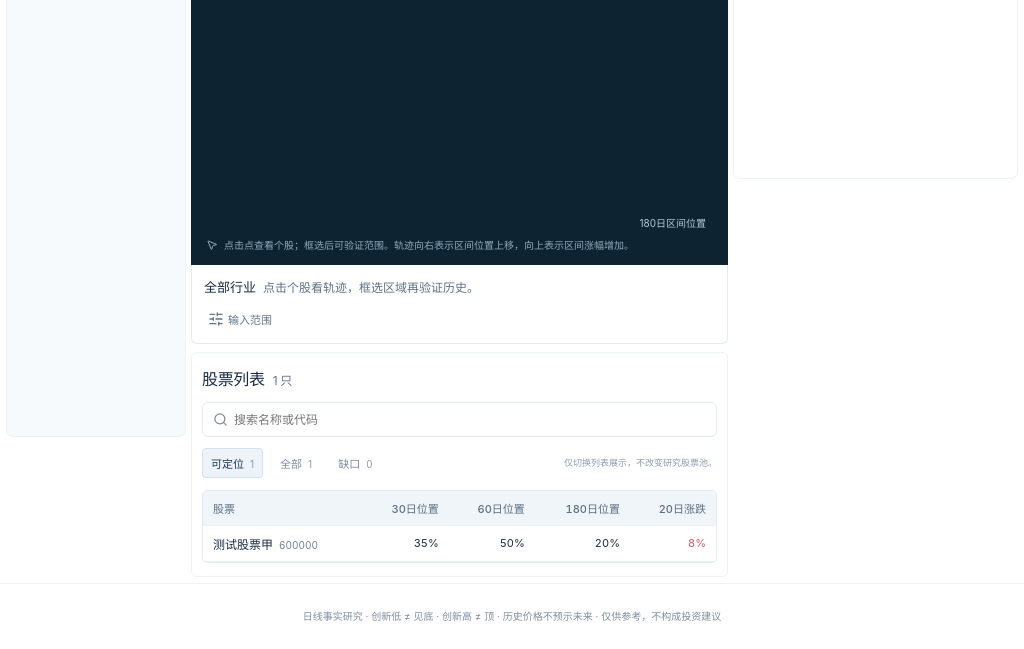
Scenario: trend discovery to reproducible research › keeps the true old date visible and prevents interactions while loading a new dated snapshot
(page scrolled)
Click the button with aria-label "查看 测试股票甲 600000": point(265, 543) [213,535,318,552]
(page scrolled)
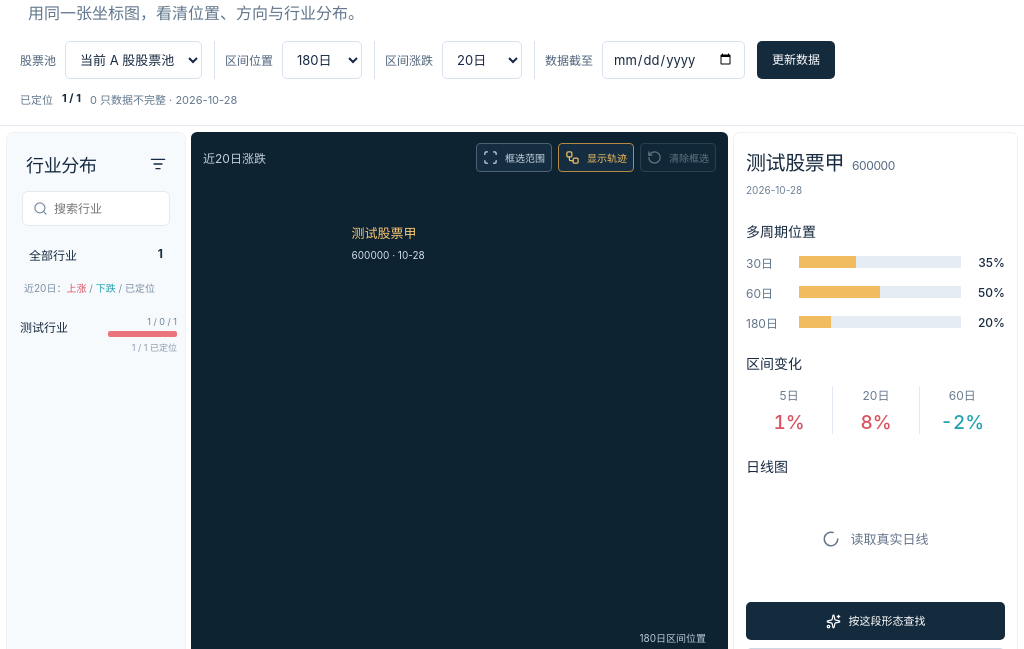
In the date field named "地图截止日期": point(674, 60) [602,41,745,79], type "2026-09-04"
(page scrolled)
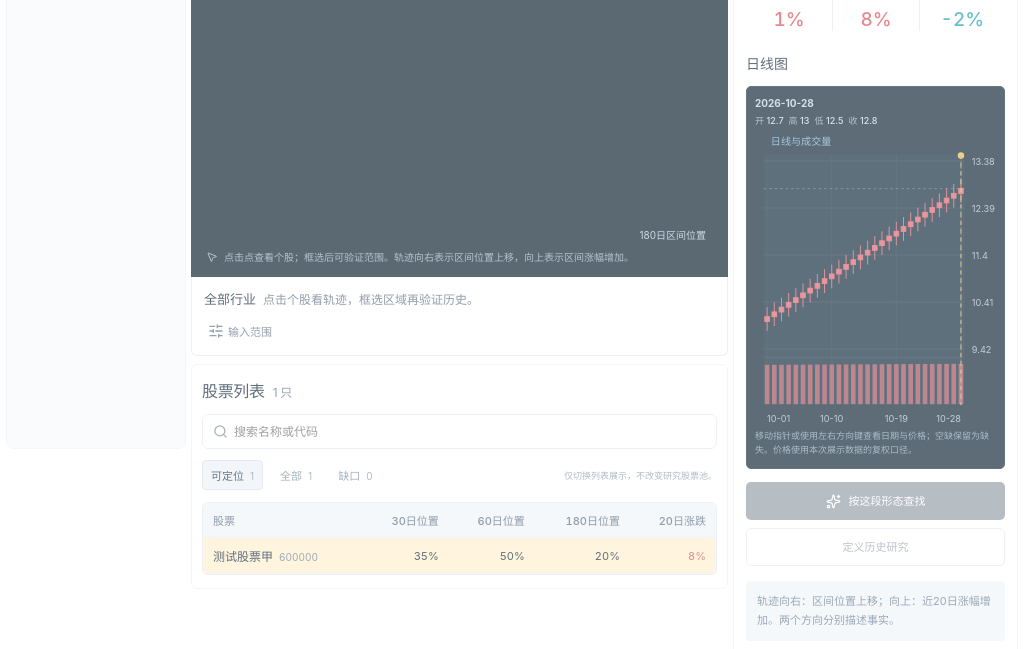
Now the button "按这段形态查找" is disabled, box [746,482,1005,520]
Now the button "定义历史研究" is disabled, box [746,528,1005,566]
